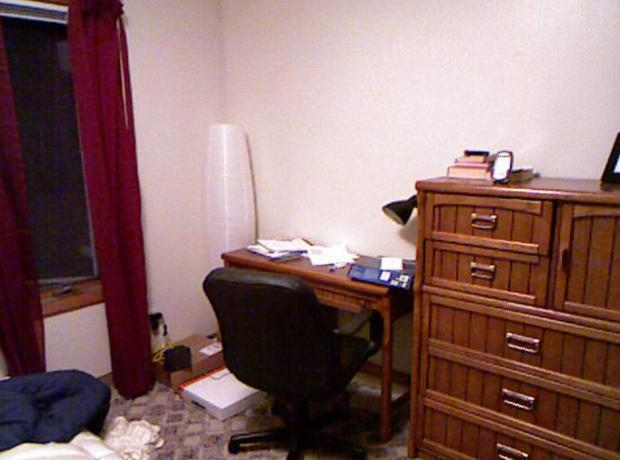Armario: (410, 183, 615, 458)
